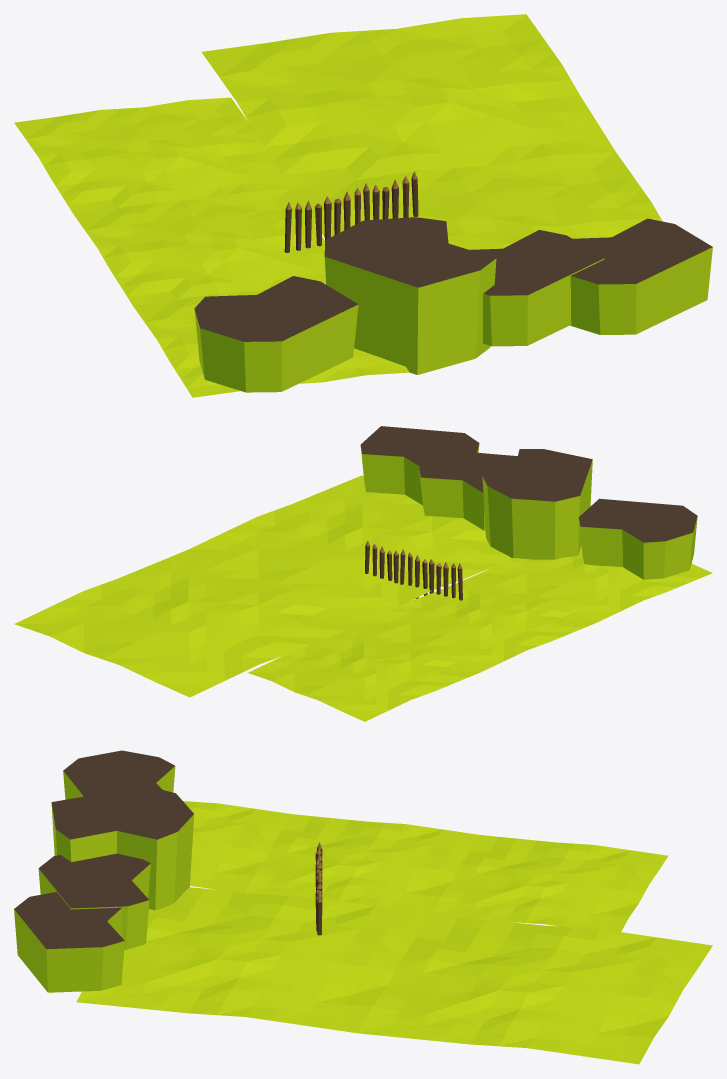
3 views of the same model, one above another, from view 1: azimuth 30°, elevation 25°; view 2: azimuth 150°, elevation 25°; view 3: azimuth 270°, elevation 25° (orthographic). The views are drawn at different scales.
Parts seen in each view (by area): view 1: -mesh; view 2: -mesh; view 3: -mesh.
Boxes of the visible parts, box(x1,y1,x2,y2) form: -mesh: box(14, 14, 712, 397); -mesh: box(14, 426, 712, 721); -mesh: box(14, 750, 712, 1064).
Bounding box in the file's own units: 26.44 × 3.9 × 28.82.
